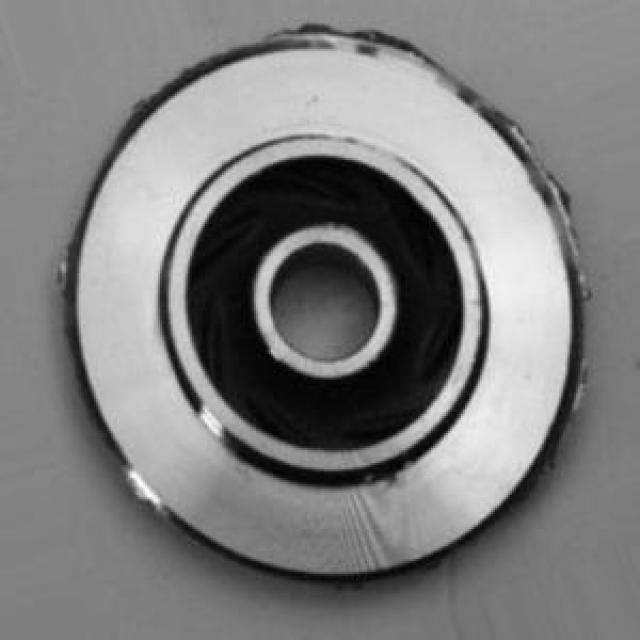Defect: (298, 10, 426, 61)
